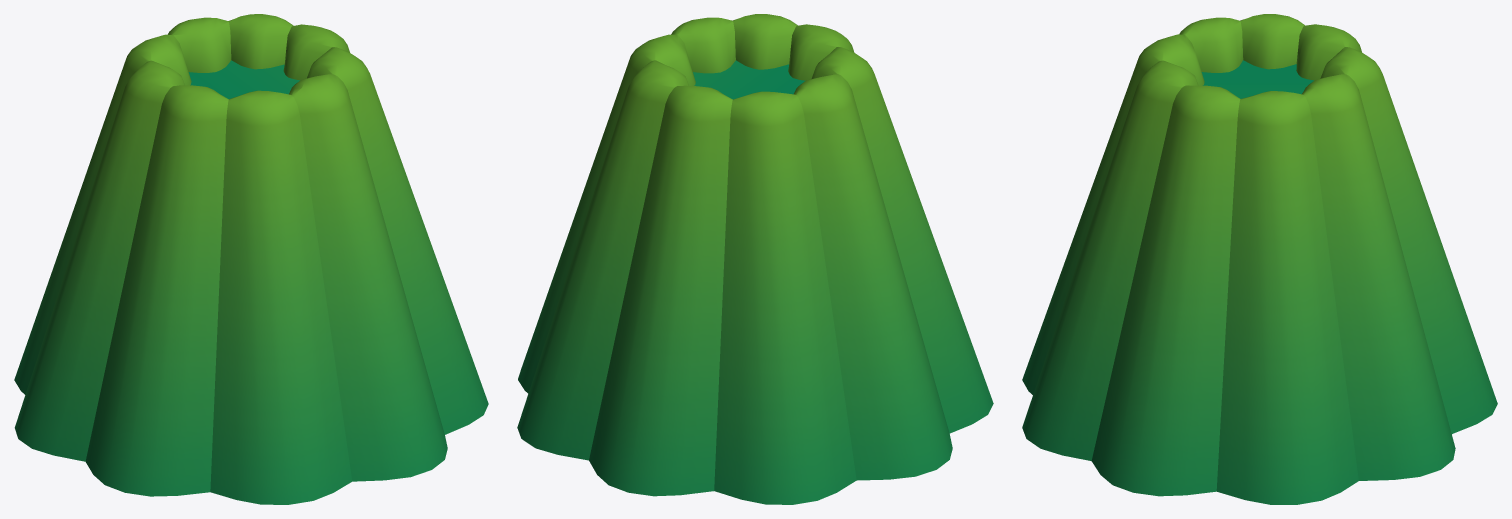
Rendered from Jelly_01.fbx.
3 renders of one model, left to right at view 1: azimuth 30°, elevation 25°; view 2: azimuth 150°, elevation 25°; view 3: azimuth 270°, elevation 25°, orthographic.
Parts seen in each view (by area): view 1: Jelly_01; view 2: Jelly_01; view 3: Jelly_01.
Boxes of the visible parts, x1,y1,x2,y2 form: Jelly_01: (14,14,488,504); Jelly_01: (517,14,993,504); Jelly_01: (1022,14,1497,504).
Bounding box in the file's own units: 148 × 119 × 147.
